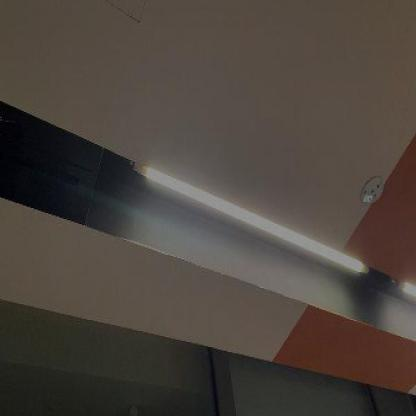light_on: (133, 158, 368, 290), (396, 266, 415, 316)
